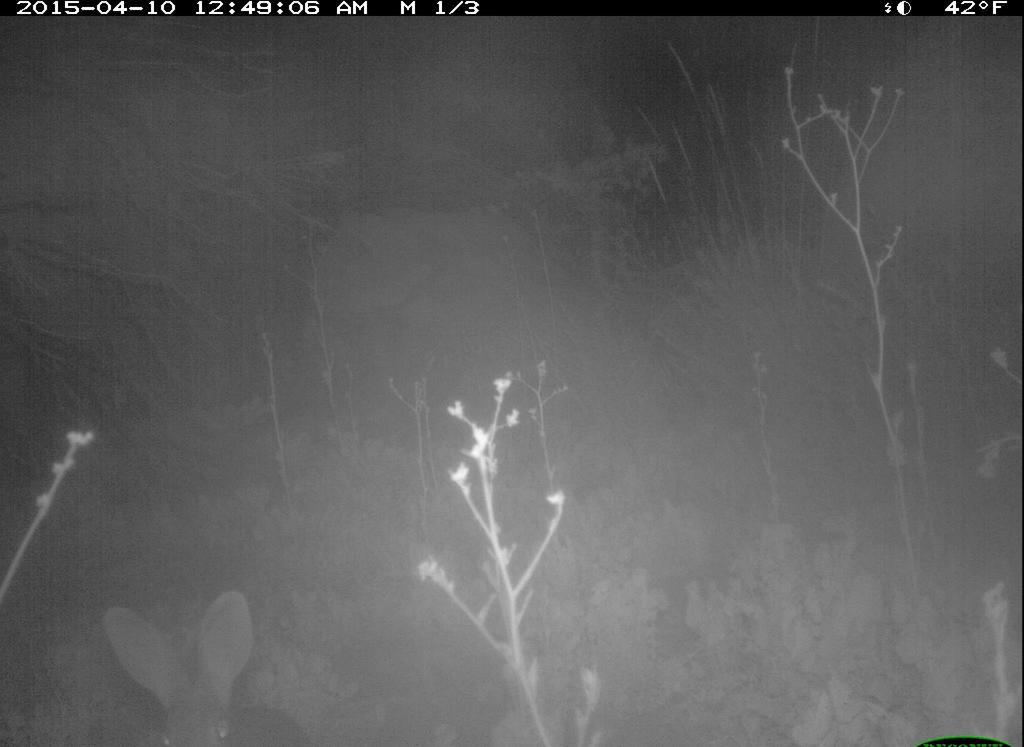rabbit: (100, 584, 322, 747)
